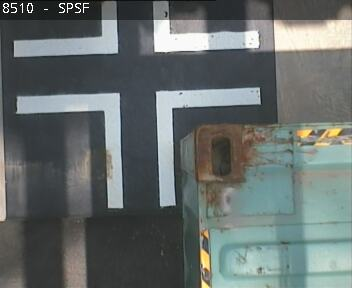groundmarker_1: (14, 86, 258, 206)
